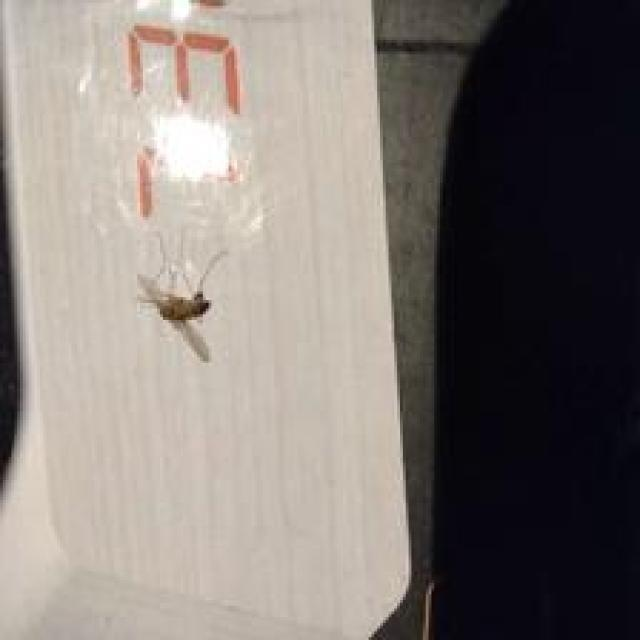Culex: (133, 228, 230, 363)
